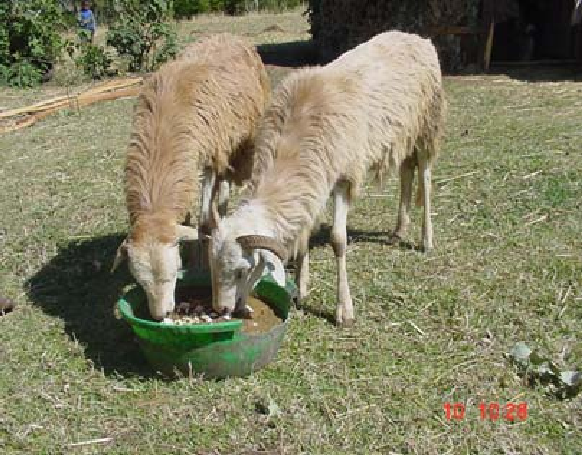koyun: (206, 32, 444, 313), (117, 45, 200, 328)
